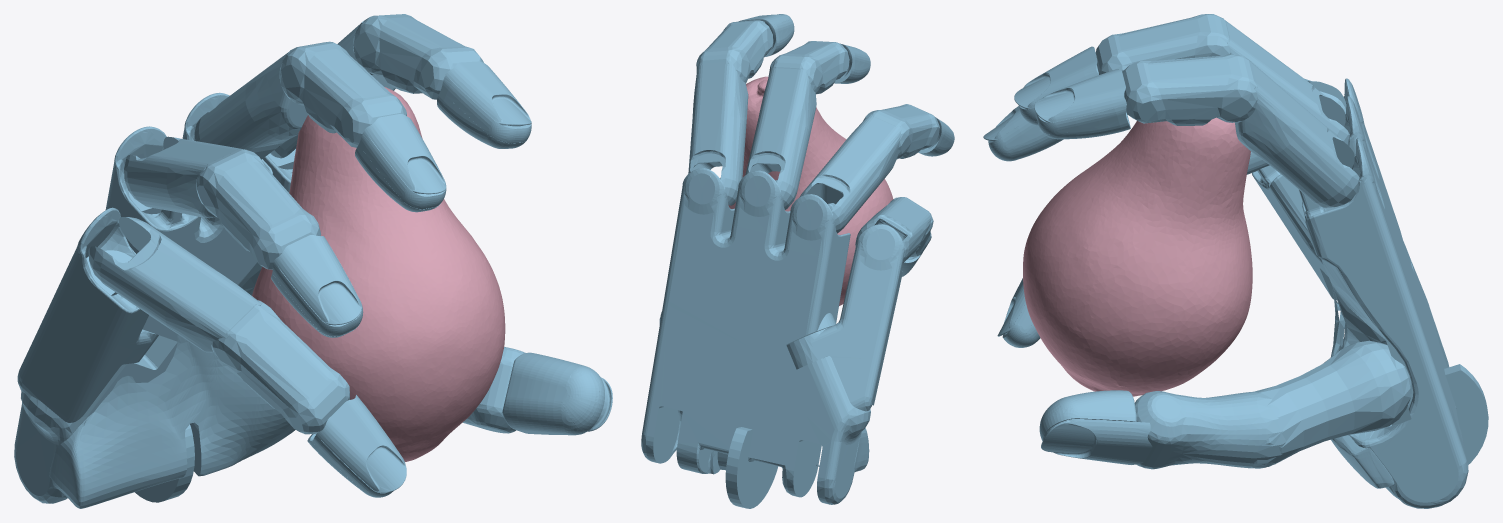
3 views of the same model, side by side, from view 1: azimuth 30°, elevation 25°; view 2: azimuth 150°, elevation 25°; view 3: azimuth 270°, elevation 25° (orthographic). The views are drawn at different scales.
Visible parts, largest first — view 1: world, pear.stl; view 2: world, pear.stl; view 3: world, pear.stl.
Part boxes in pixels (<box>): world: <box>14,14,612,508</box>; pear.stl: <box>252,87,505,461</box>; world: <box>641,14,954,508</box>; pear.stl: <box>728,76,893,305</box>; world: <box>983,14,1488,508</box>; pear.stl: <box>1023,117,1252,396</box>.
Bounding box in the file's own units: 0.1271 × 0.1534 × 0.1444.
